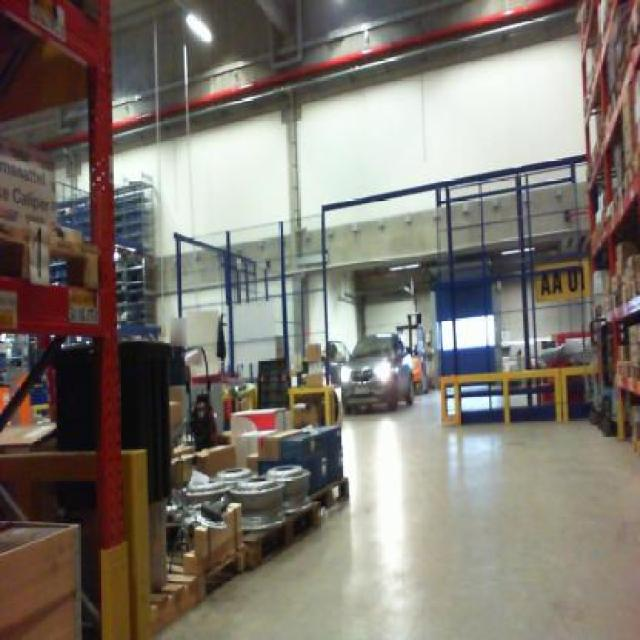pallet: (0, 212, 104, 296)
